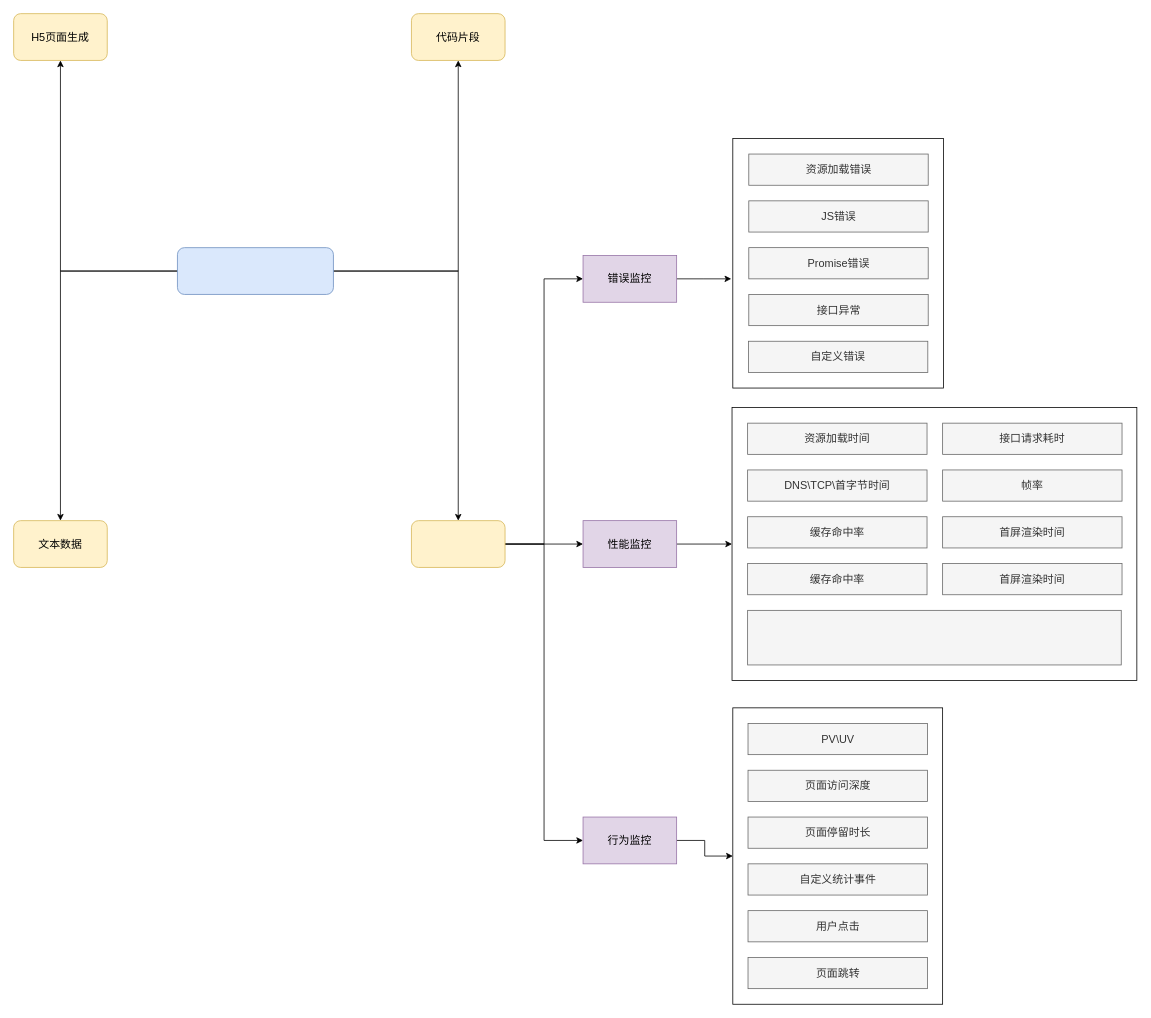
The diagram is 1151 pixels wide and 1018 high, and some of its shapes have lost their labels. The centre of each missing label's shape, as x and y in pixels:
"FP、FCP、LCP、CLS、FID、LCS、DOMContentLoaded、onload" goes at point 934,637.
"官网管理后台" goes at point 255,270.
"页面监控" goes at point 458,543.
